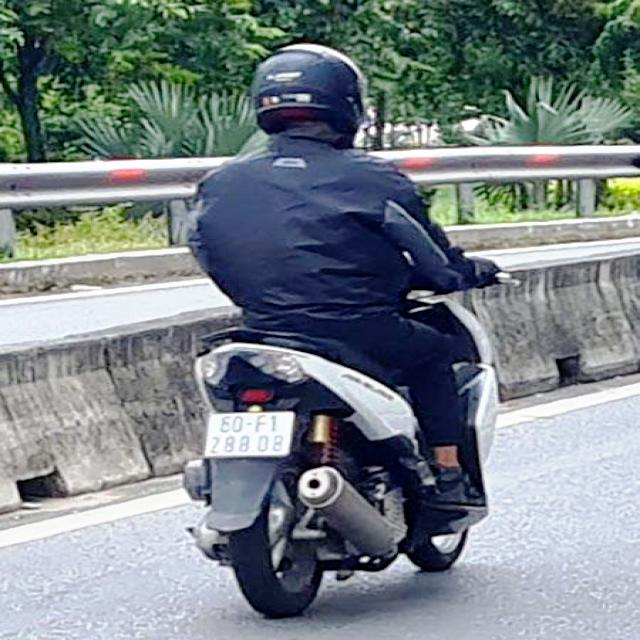license_plate: (206, 413, 295, 457)
